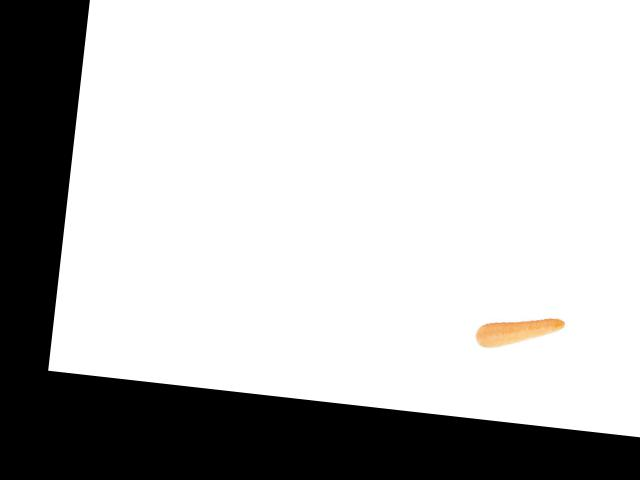carrot: (472, 310, 569, 360)
